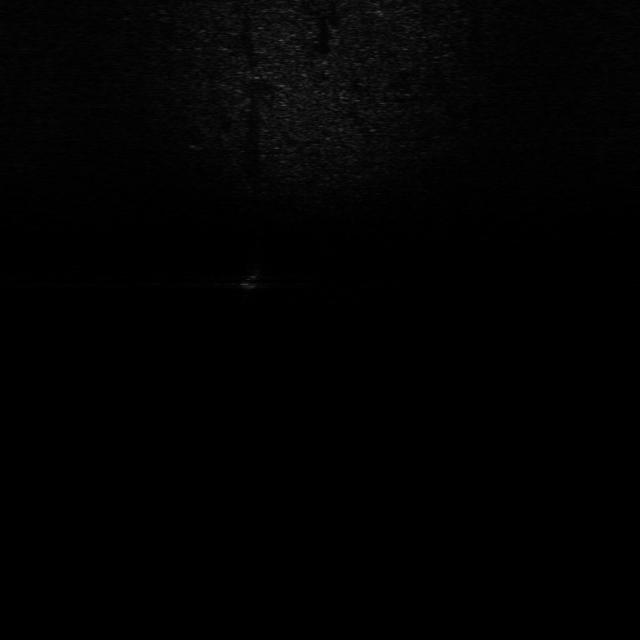human body: (239, 260, 267, 308)
